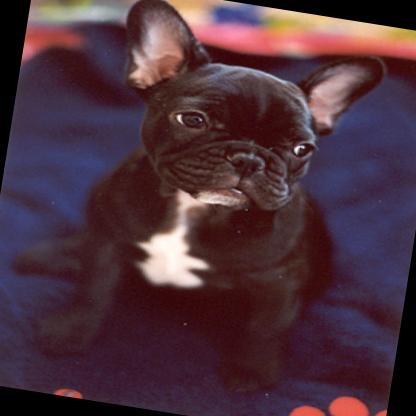French_bulldog: (0, 0, 392, 416)
